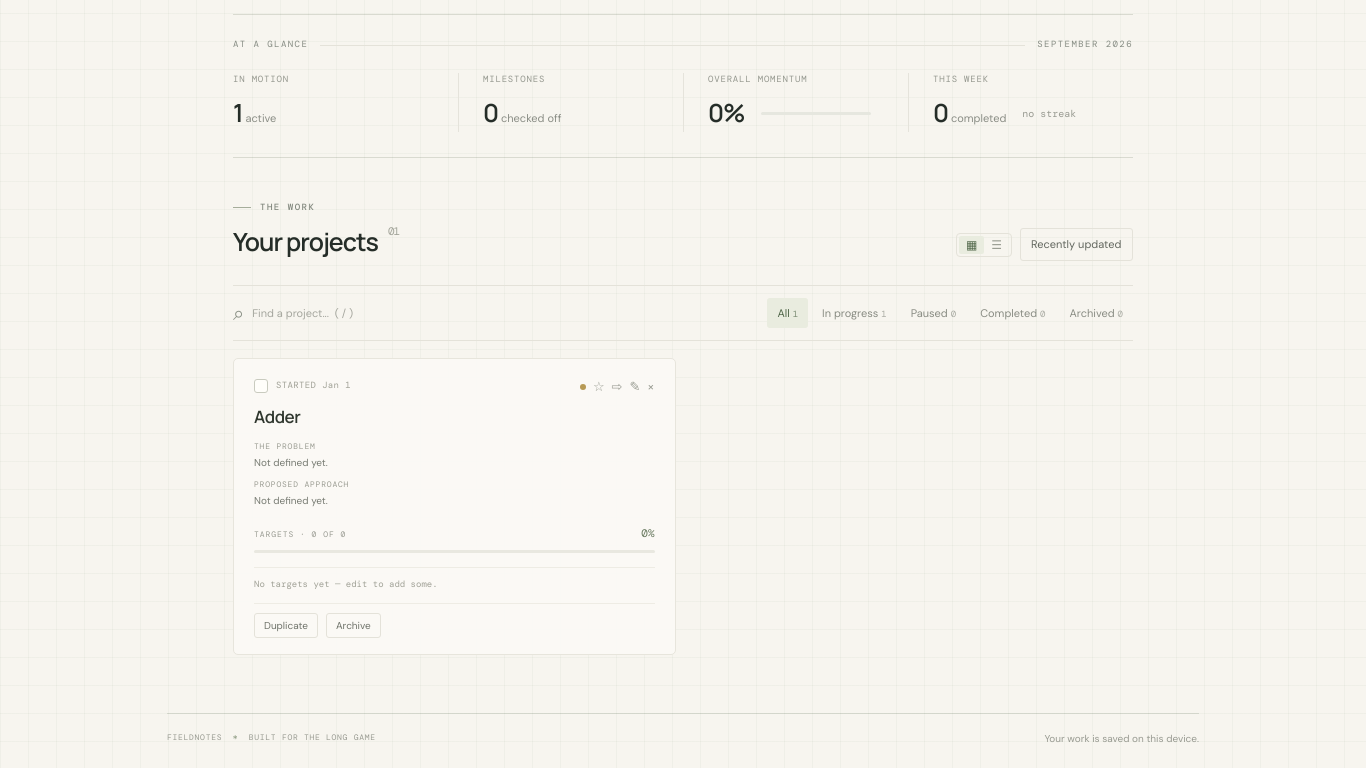
it: App: drawer › adds a target from the drawer
This screenshot has width=1366, height=768.
(page scrolled)
Click the button named "open adder". click: point(617, 387)
box: [612,378,622,396]
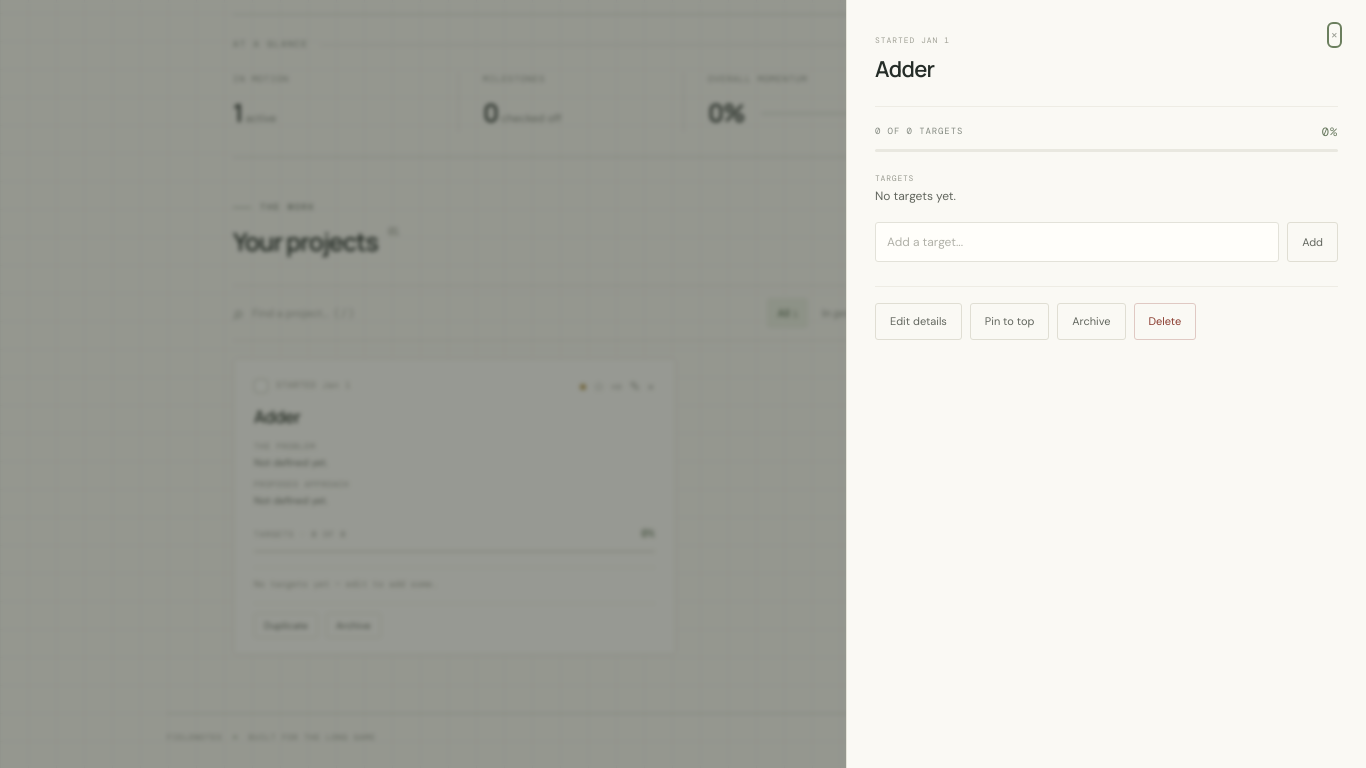
Type "Brand new target" into the field labelled "Add a target". click: point(1077, 242)
box: [875,222,1279,262]
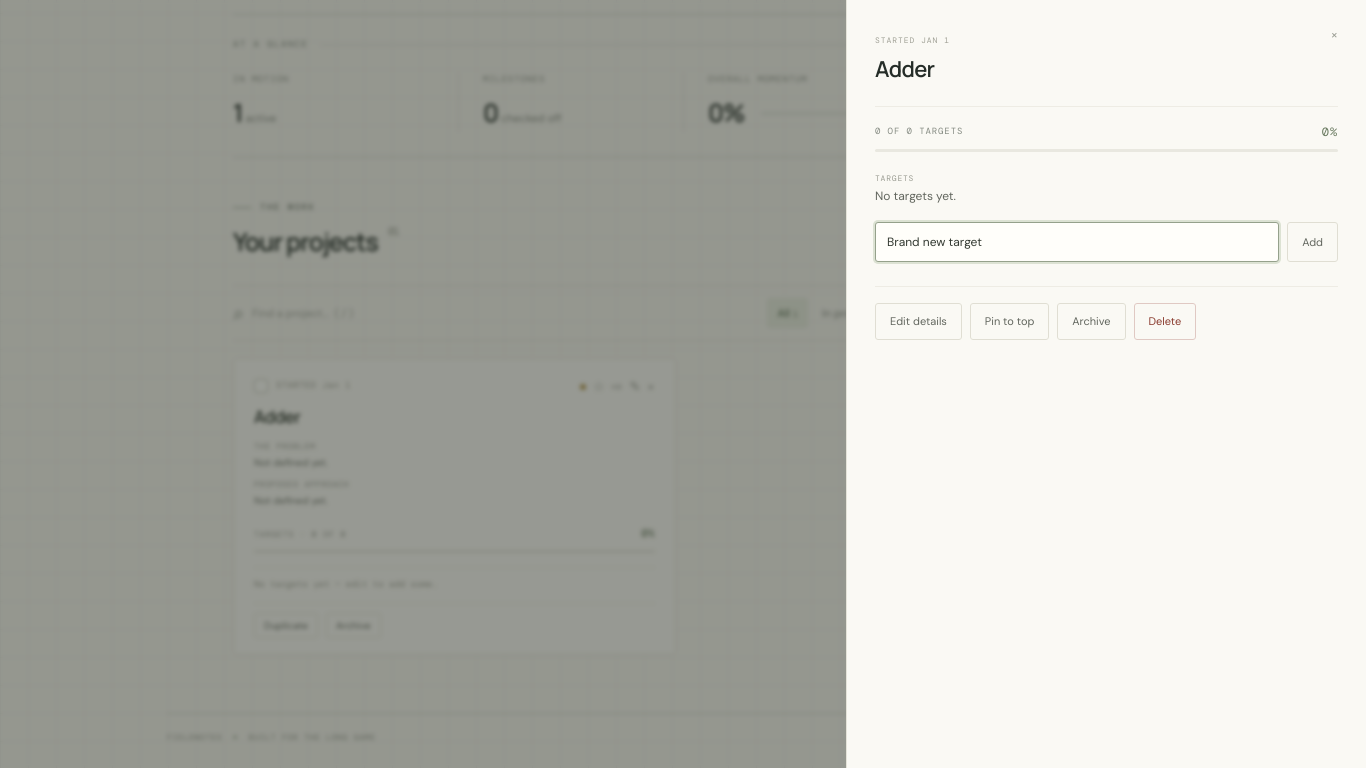
Click the button "Add". click: point(1313, 242)
box: [1287,222,1338,262]
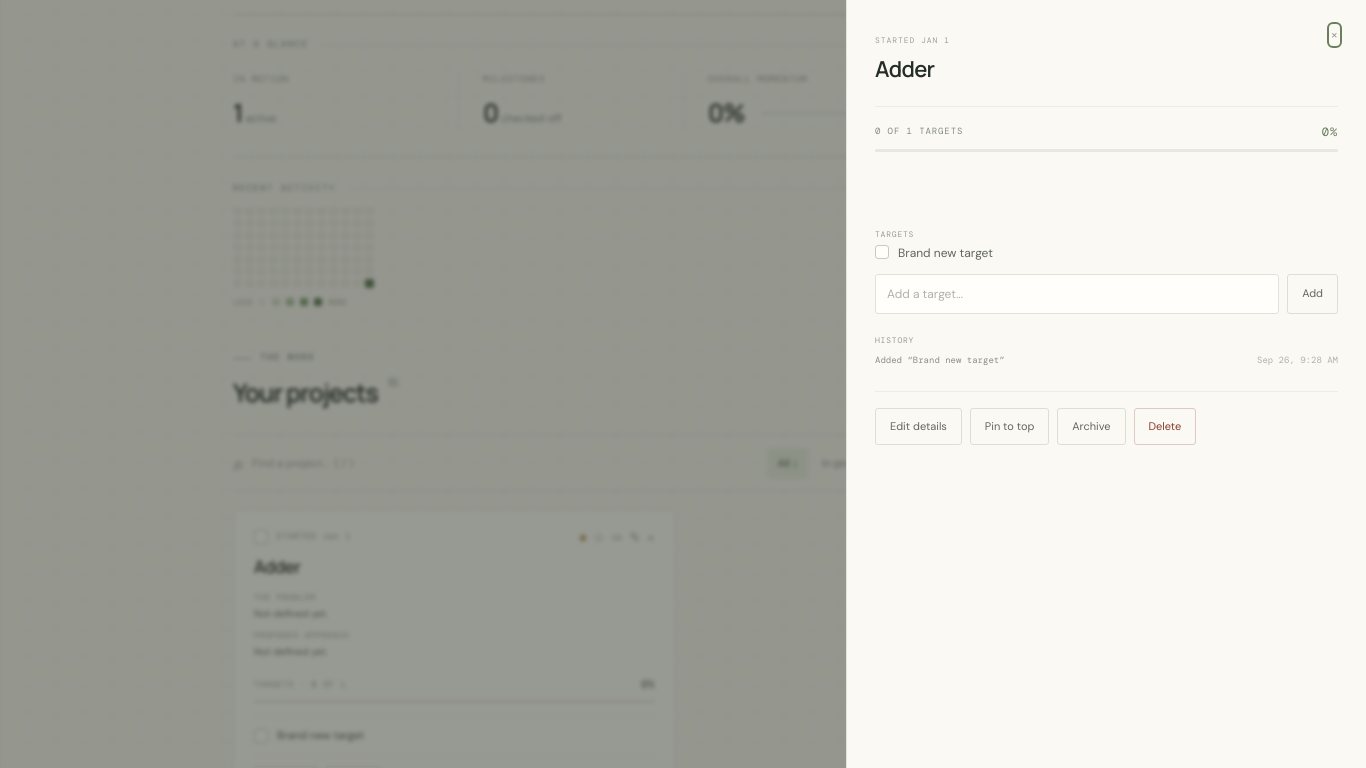
Result: the checkbox named "mark brand new target complete" is shown at [875,244,889,258]
